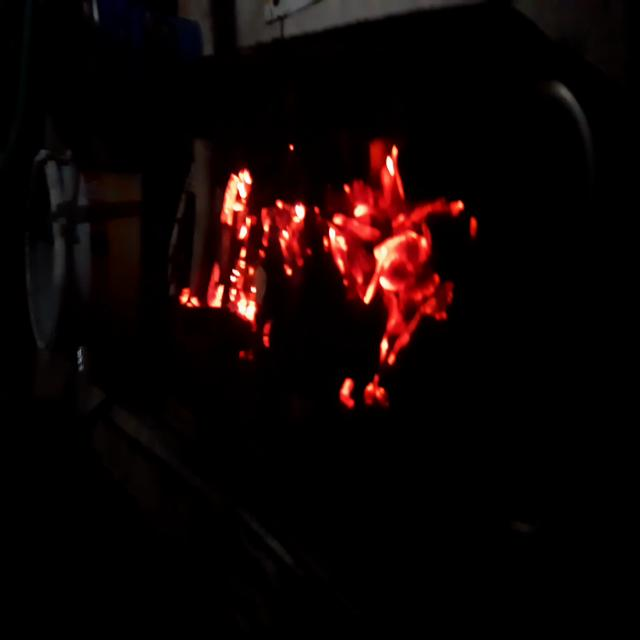Fire: (171, 132, 486, 420)
